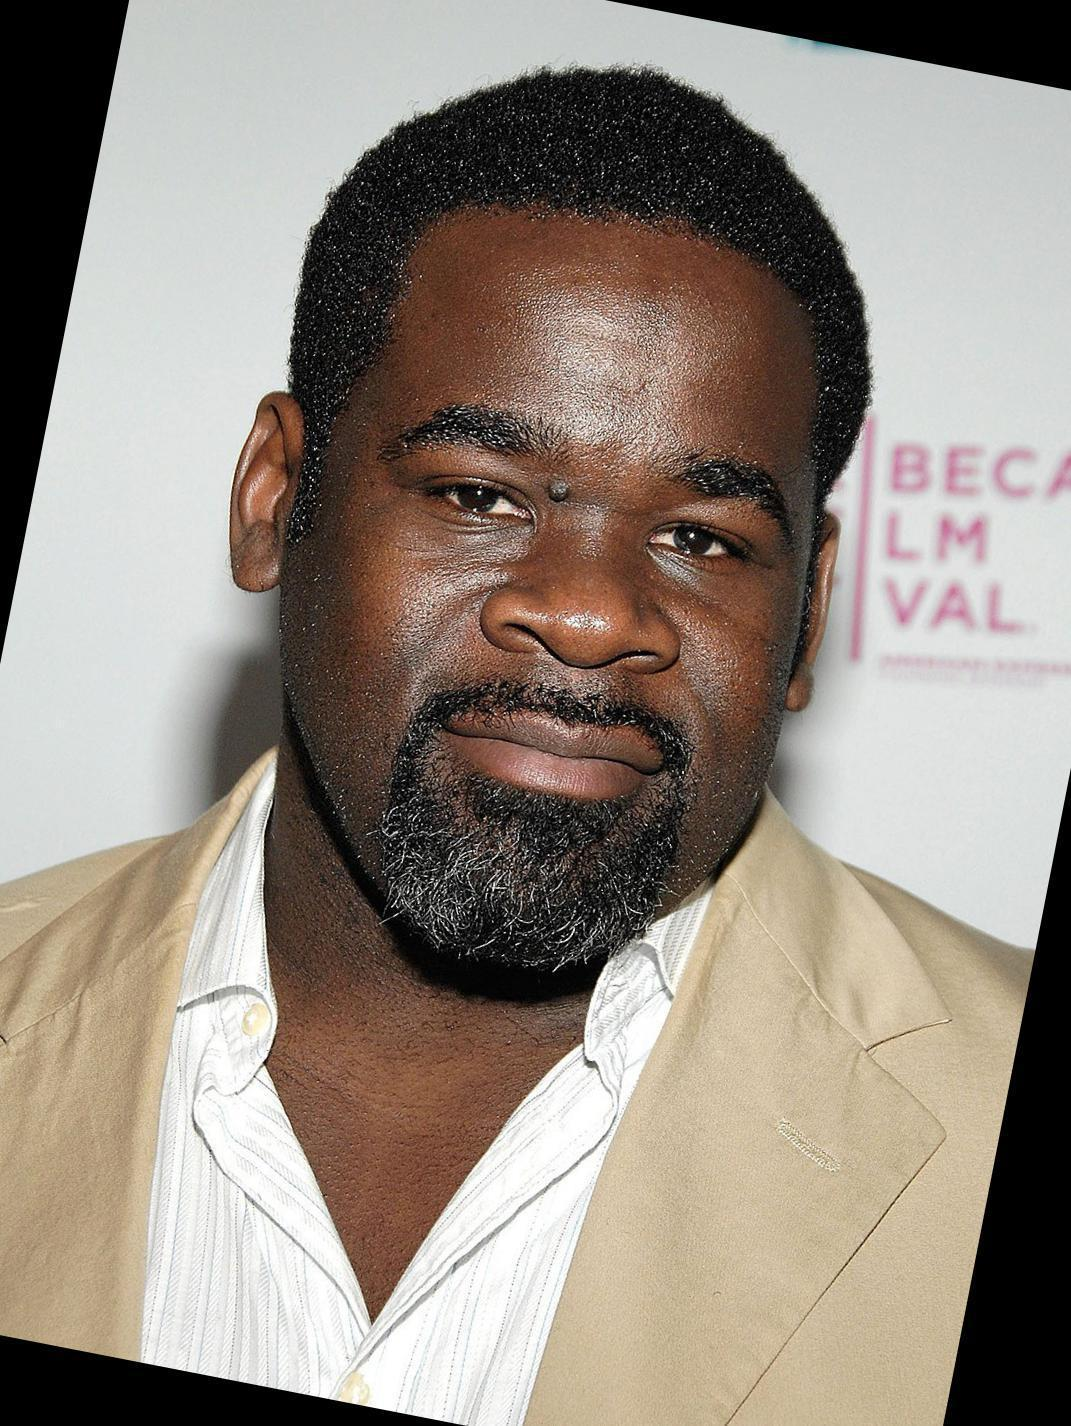Sober: (378, 217, 789, 929)
